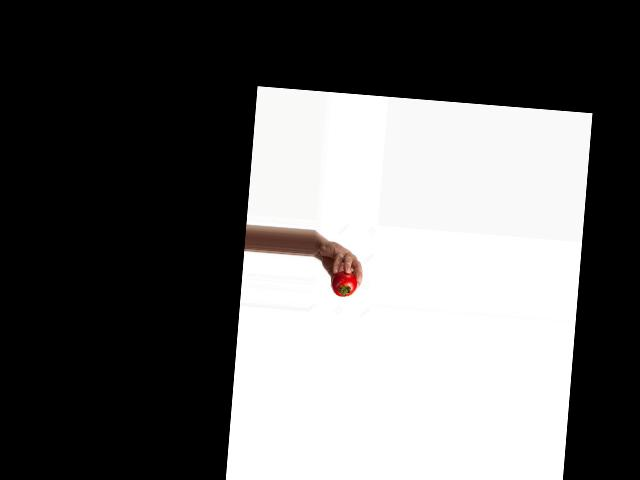tomato: (330, 270, 357, 297)
